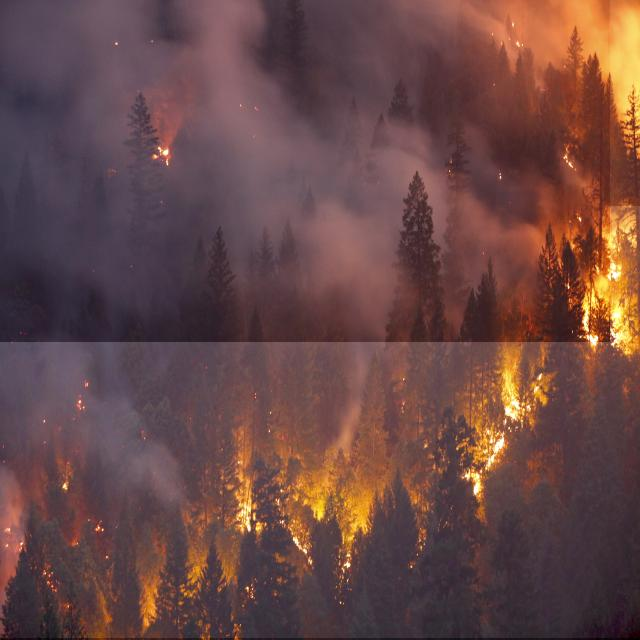Fire: (0, 206, 640, 638)
Smoke: (0, 0, 610, 342)
